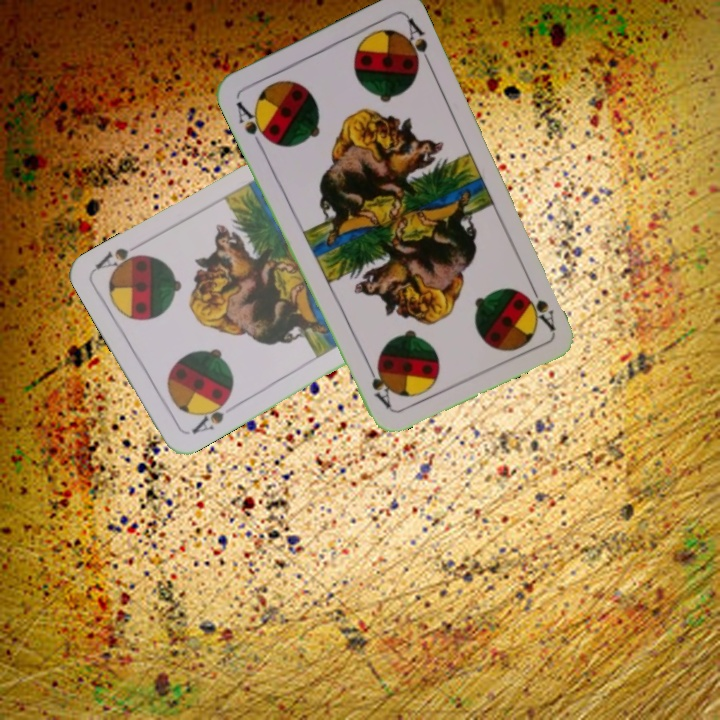SA: (232, 97, 273, 150), (520, 277, 558, 333), (187, 392, 233, 437)
